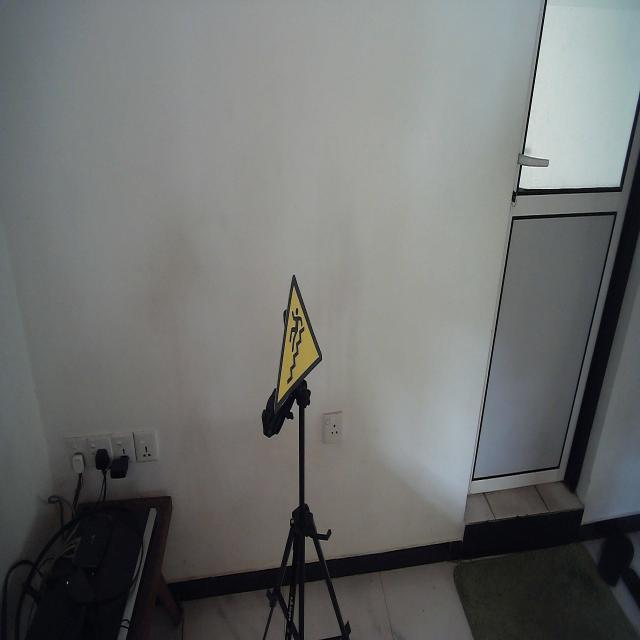stairs: (272, 272, 324, 414)
